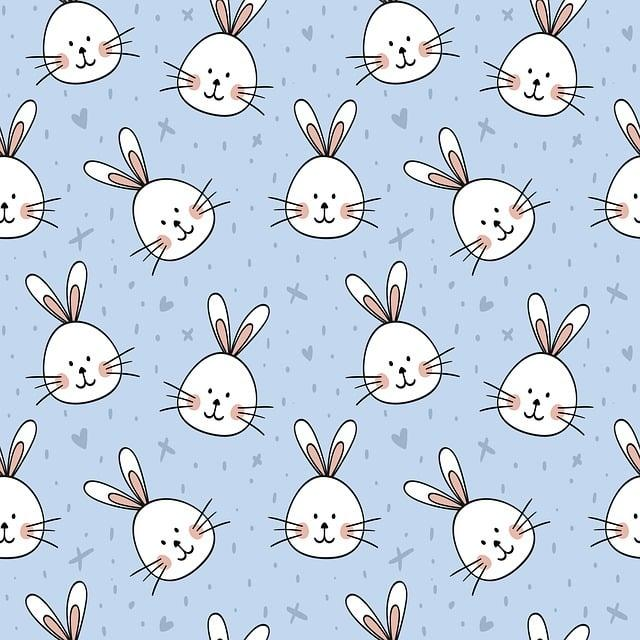Non_Gorille: (35, 67, 613, 599)
